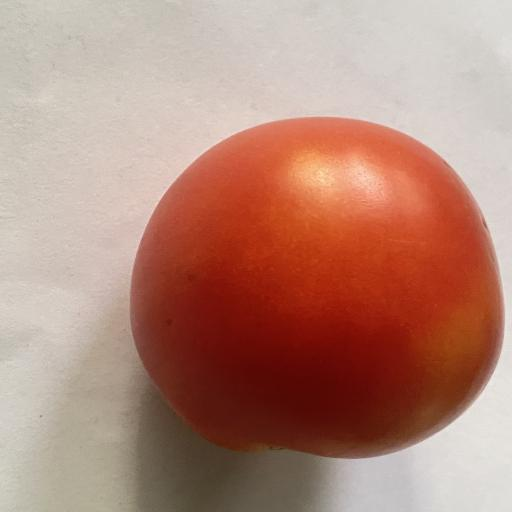ripe: (130, 117, 504, 458)
